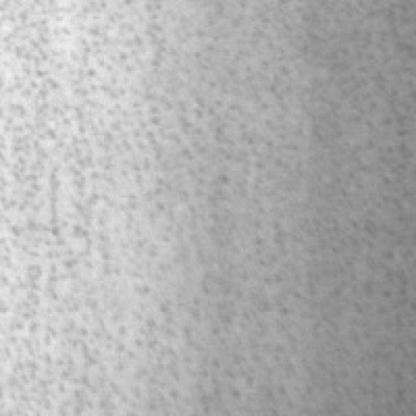pitted_surface: (6, 0, 406, 406)
